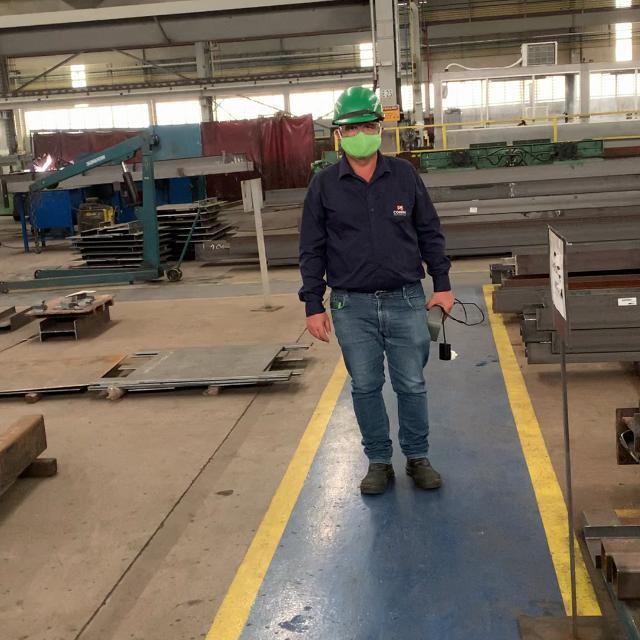glove: (336, 88, 385, 121)
helmet: (338, 131, 383, 157)
person: (337, 122, 382, 134)
safety-shoe: (405, 454, 444, 493), (361, 461, 398, 496)
